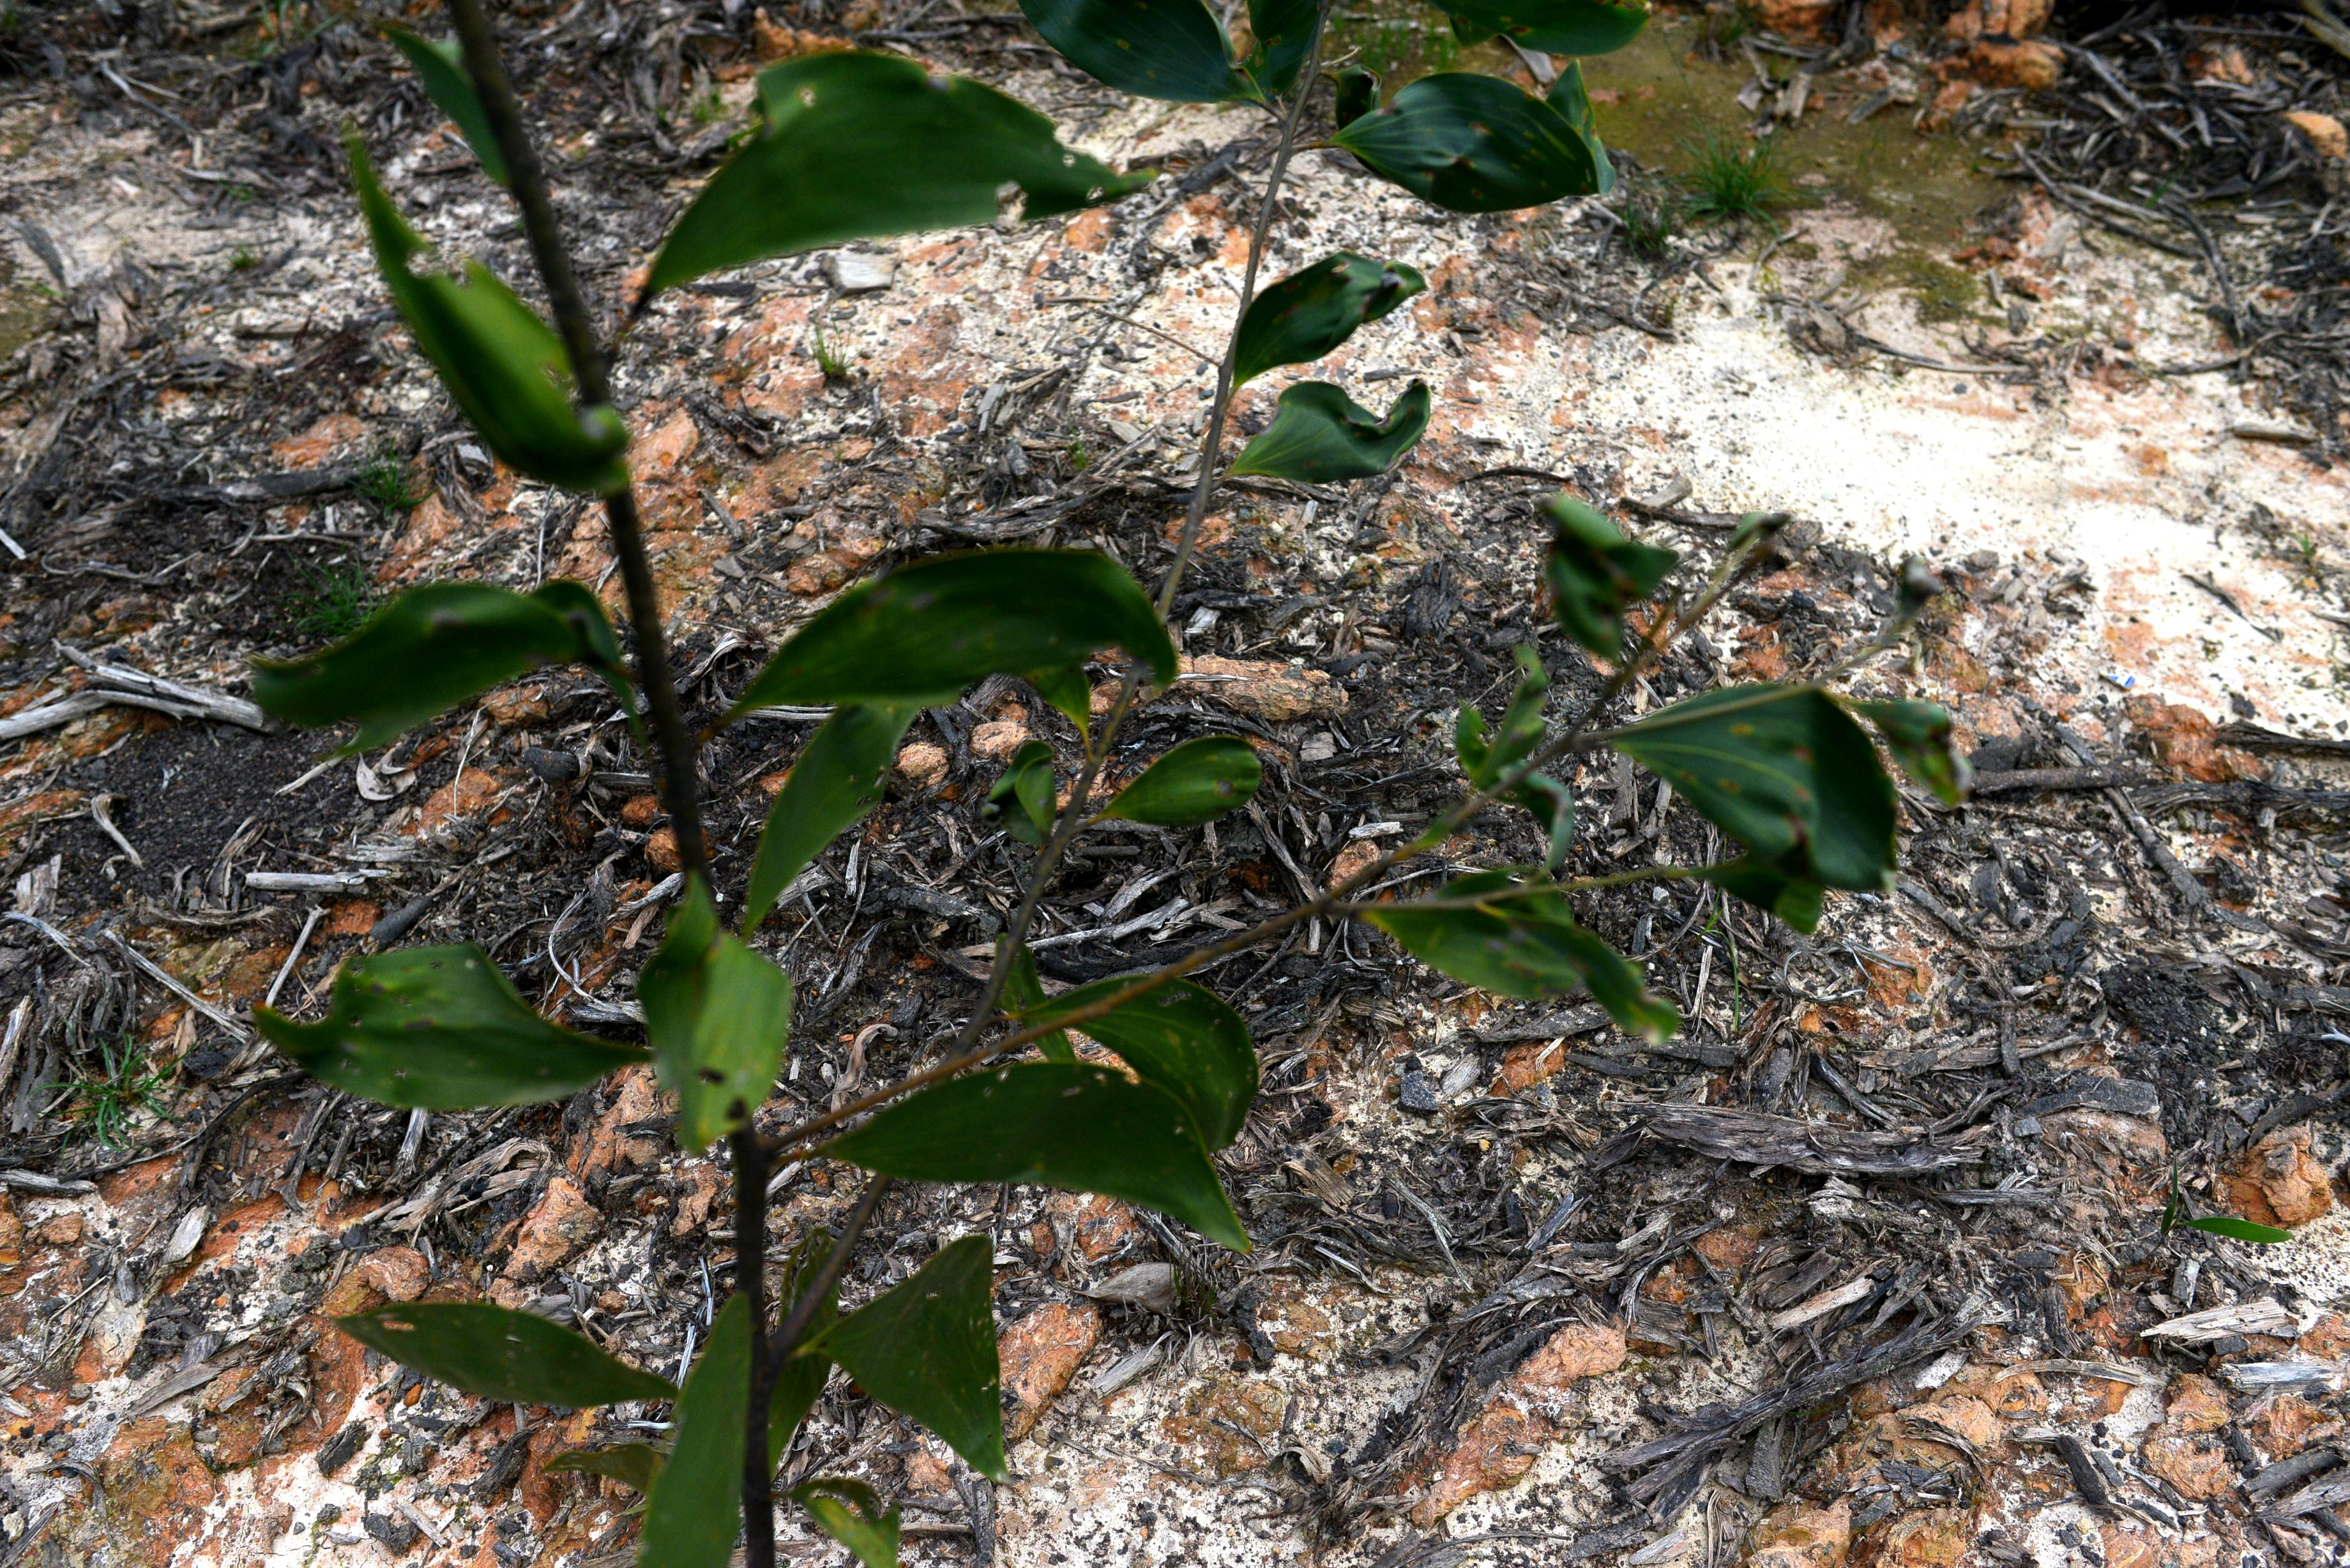Pasalora: (367, 173, 646, 544), (241, 945, 623, 1095), (1680, 630, 1879, 903), (236, 584, 623, 721), (1370, 54, 1608, 238), (1249, 364, 1463, 500), (1132, 719, 1307, 870), (1529, 467, 1647, 647)
